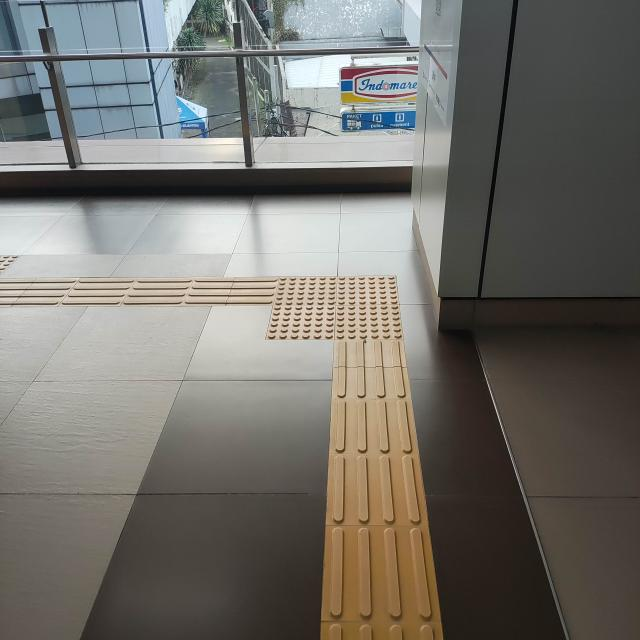kiri: (184, 242, 437, 399)
